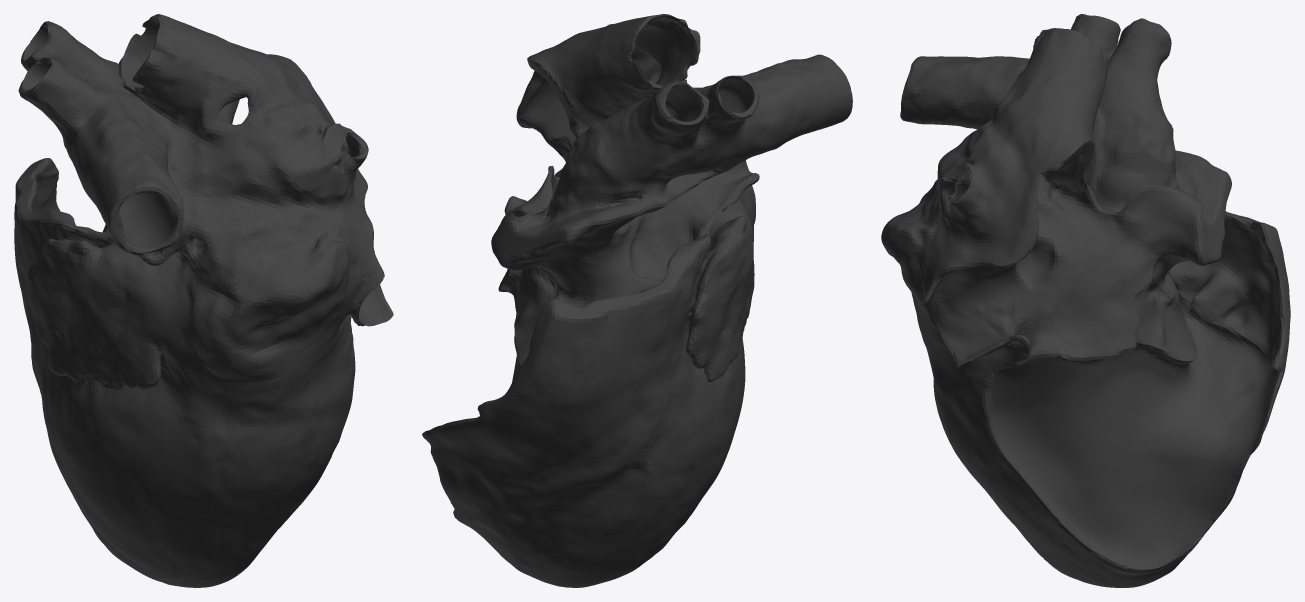
Rendered from canine_cardiac_myocardium.glb.
3 renders of one model, left to right at view 1: azimuth 30°, elevation 25°; view 2: azimuth 150°, elevation 25°; view 3: azimuth 270°, elevation 25°, orthographic. The views are drawn at different scales.
Visible parts, largest first — view 1: canine_cardiac_myocardium; view 2: canine_cardiac_myocardium; view 3: canine_cardiac_myocardium.
Part boxes in pixels (x1,y1,x2,y2): canine_cardiac_myocardium: (14, 14, 393, 587); canine_cardiac_myocardium: (422, 14, 852, 587); canine_cardiac_myocardium: (881, 14, 1290, 587).
Size of the model in its own units: 0.0688 by 0.1244 by 0.0878.
Materials: 1 (1 with a texture image).
